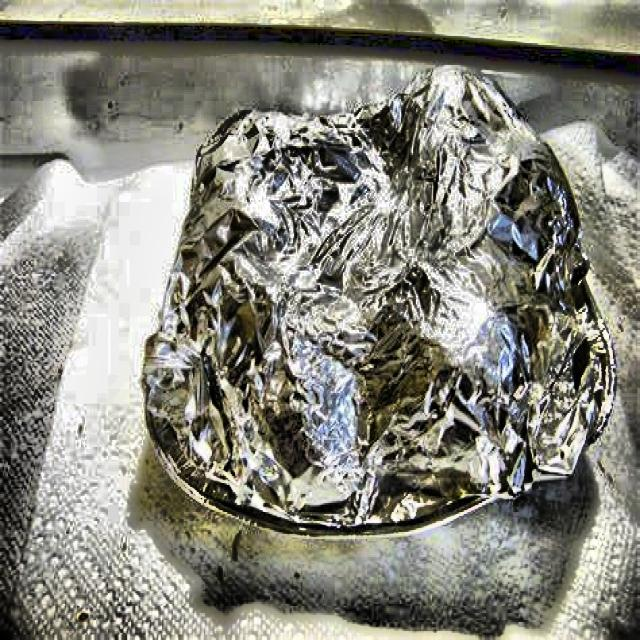Foil: (148, 57, 614, 550)
